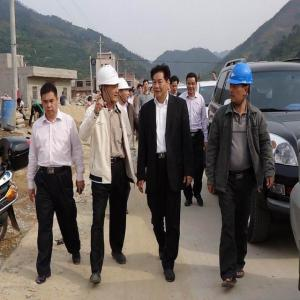blue: (229, 64, 254, 106)
none: (40, 84, 61, 120), (151, 67, 171, 99), (185, 72, 199, 97), (170, 75, 181, 95), (143, 80, 150, 92), (137, 84, 143, 95), (17, 98, 23, 107), (129, 88, 134, 98), (212, 71, 217, 80), (88, 96, 93, 104)
white: (98, 65, 122, 106), (117, 77, 131, 104)
